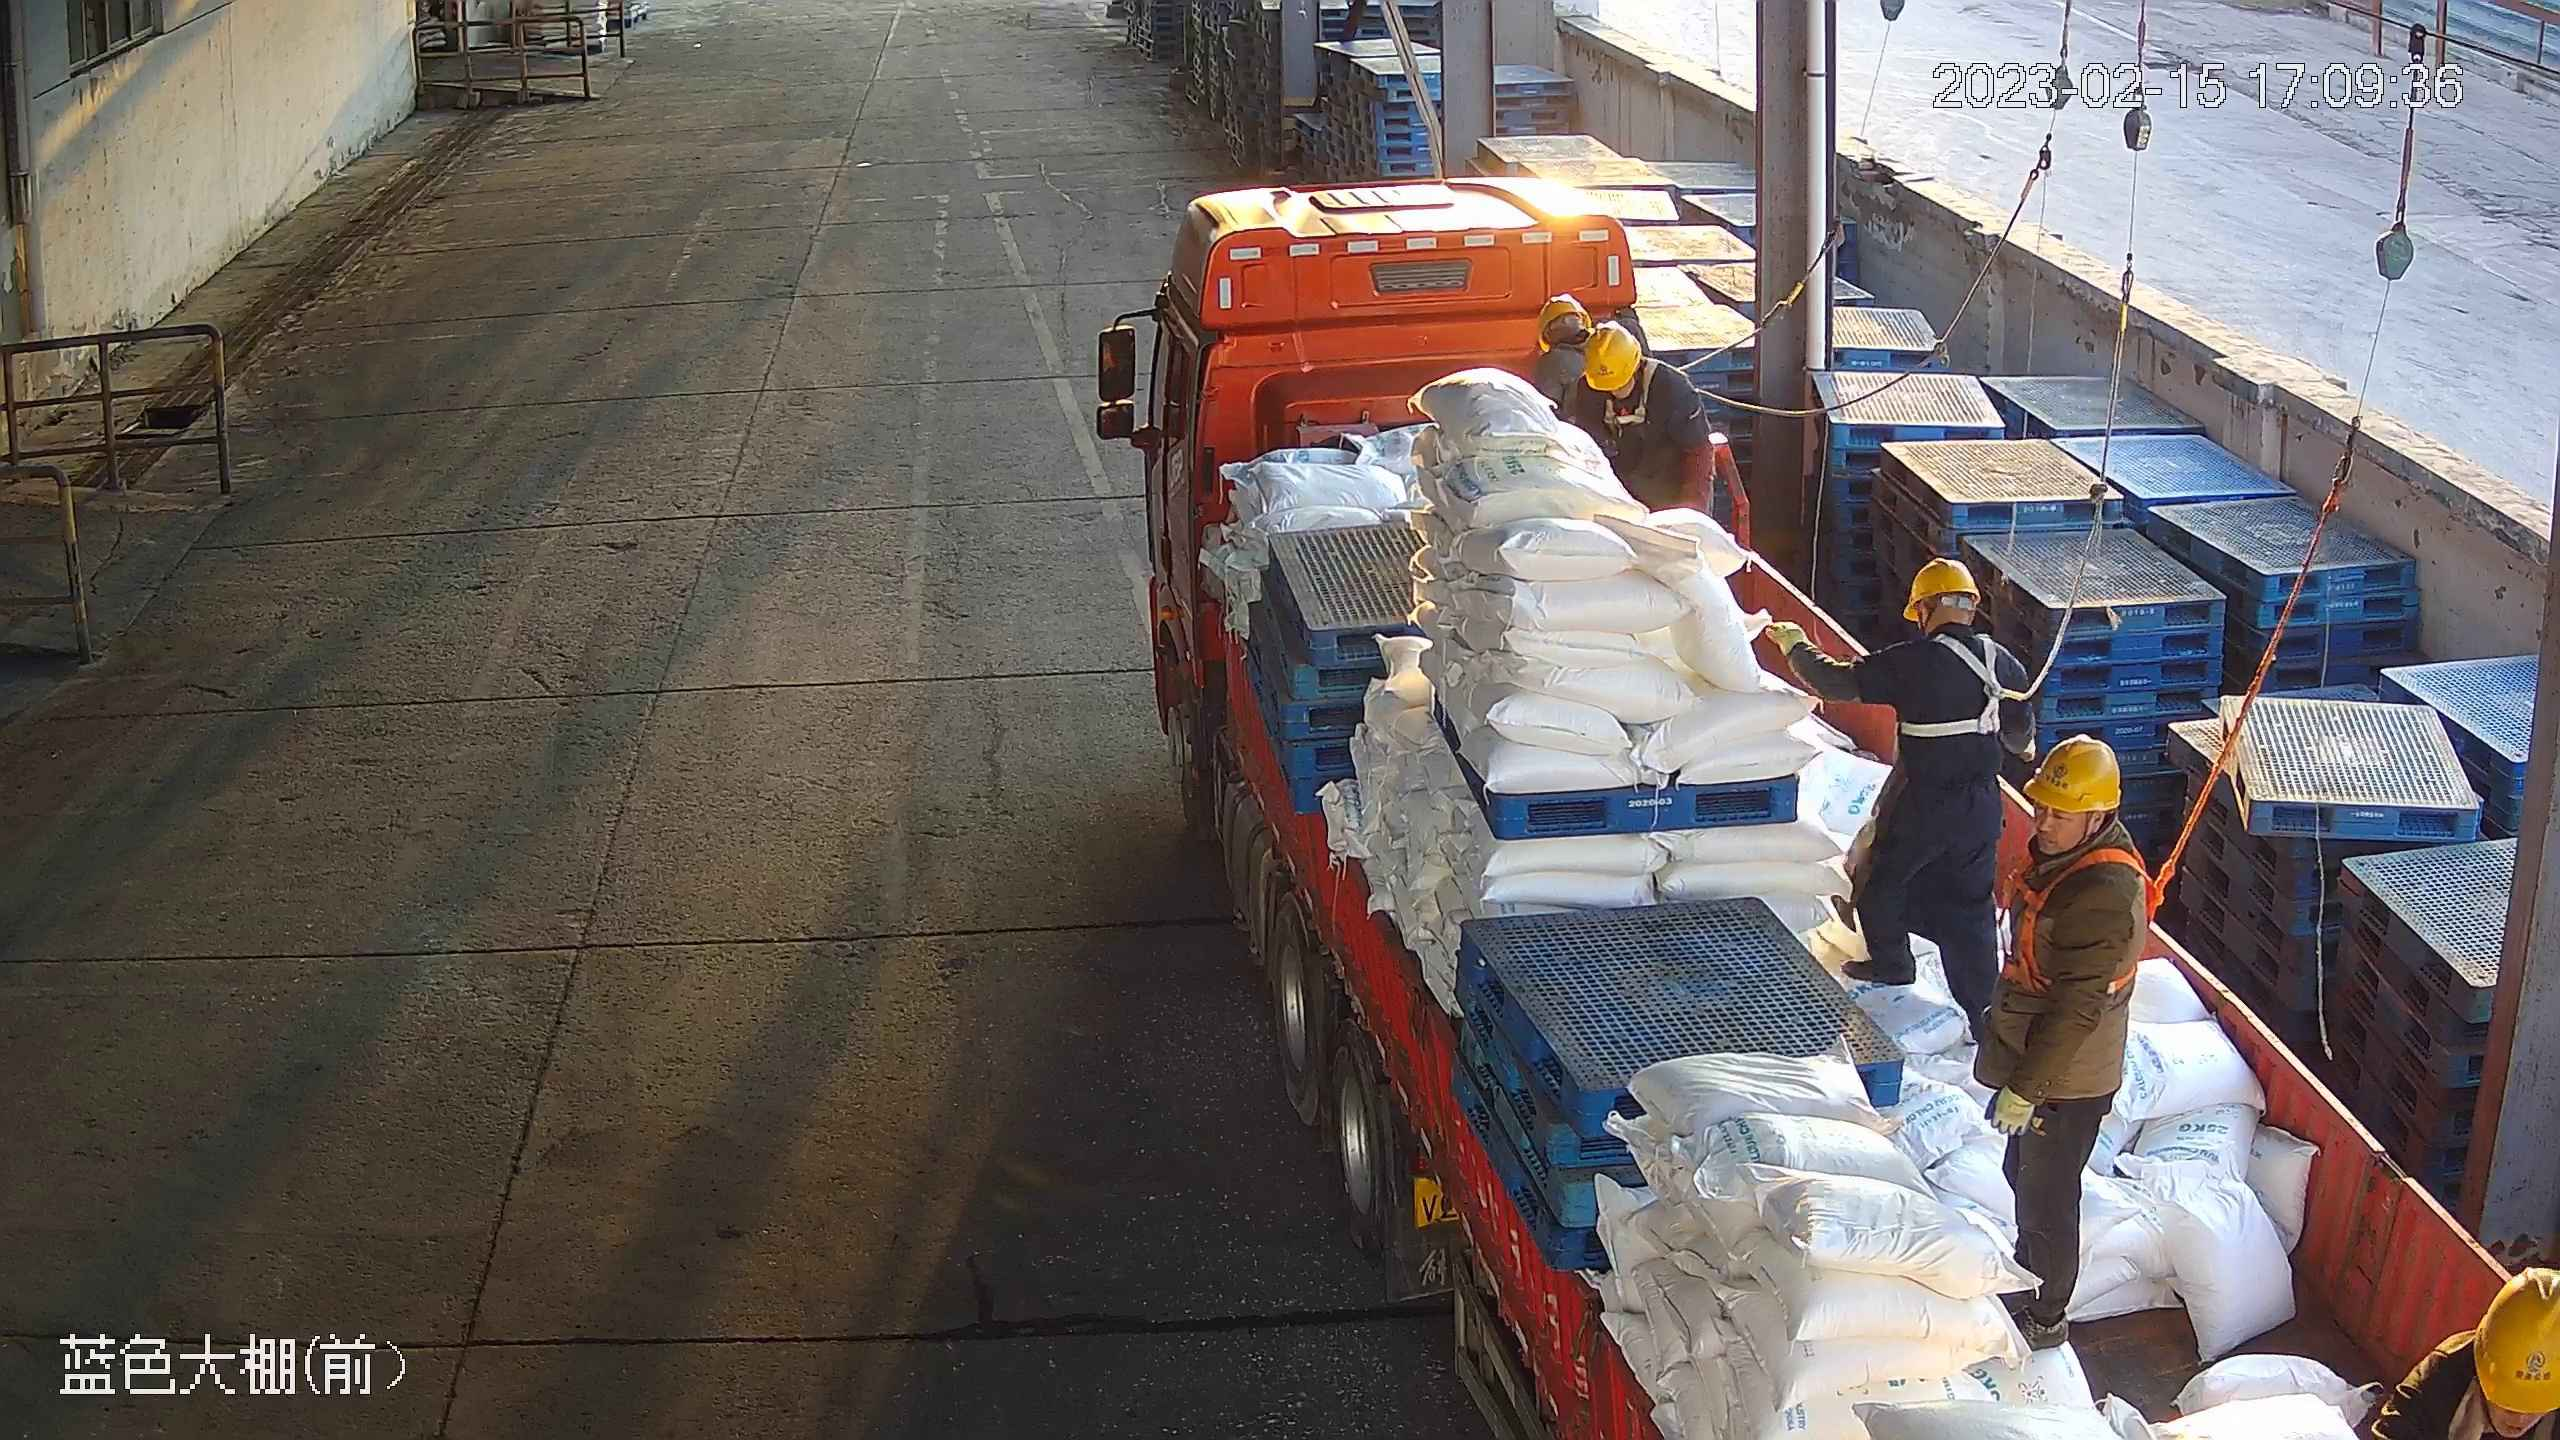belt: (1994, 838, 2187, 1007), (1883, 621, 2042, 741), (1595, 353, 1713, 429)
head: (2005, 730, 2157, 926), (1878, 556, 2032, 684), (1563, 319, 1704, 409)
helmet: (2467, 1262, 2560, 1416), (2020, 730, 2123, 817), (1901, 555, 1983, 626), (1579, 319, 1643, 392), (1536, 291, 1594, 354)
people: (1762, 551, 2040, 1053), (1970, 725, 2148, 1353), (1568, 316, 1718, 523)
truck: (1140, 173, 2560, 1440)
